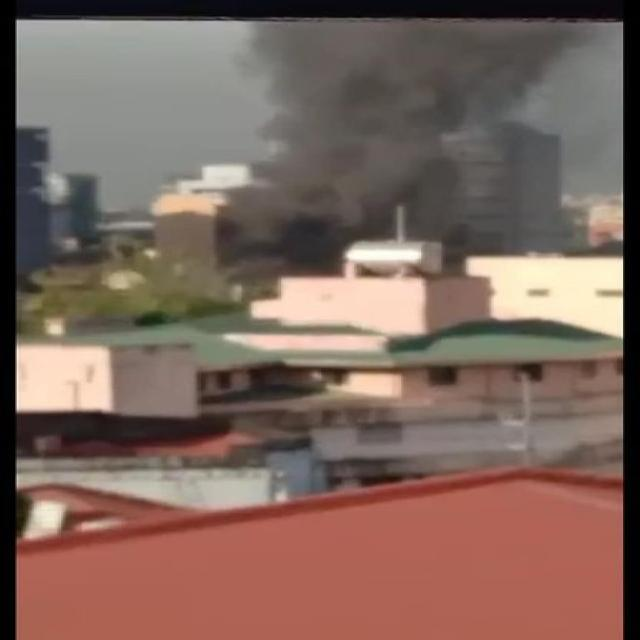Smoke: (241, 12, 562, 281)
